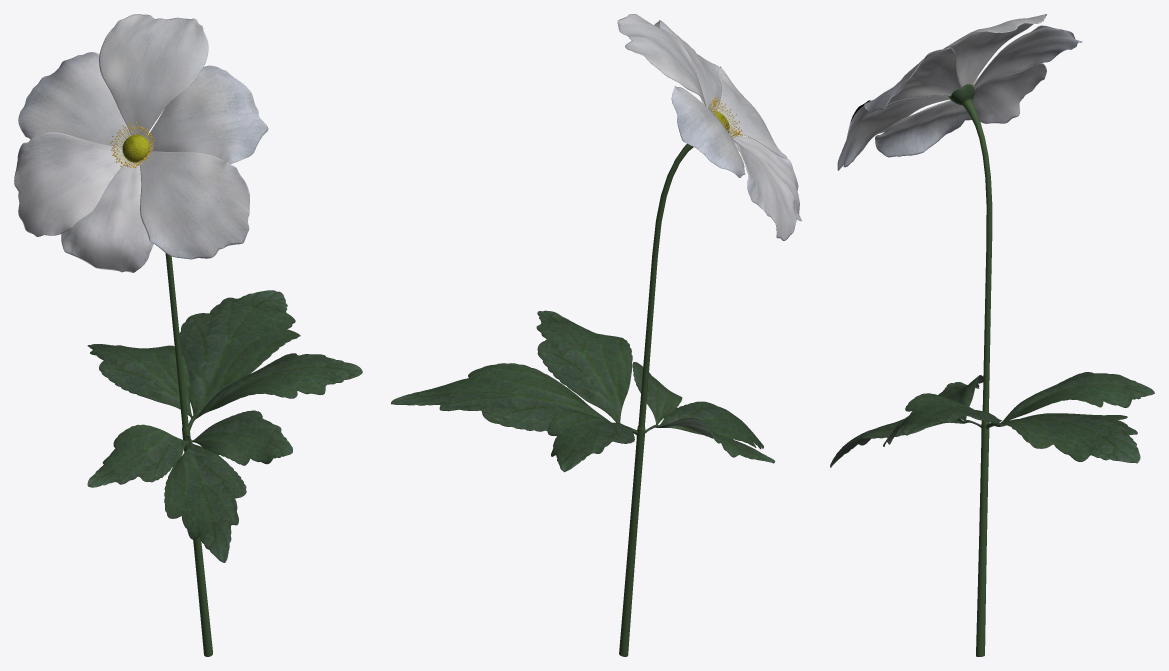
The picture shows the model from 3 angles, left to right: view 1: azimuth 30°, elevation 25°; view 2: azimuth 150°, elevation 25°; view 3: azimuth 270°, elevation 25°; orthographic projection. The views are drawn at different scales.
Visible parts, largest first — view 1: 12973_anemone_flower_v1_l2; view 2: 12973_anemone_flower_v1_l2; view 3: 12973_anemone_flower_v1_l2.
Boxes of the visible parts, box(x1,y1,x2,y2) form: 12973_anemone_flower_v1_l2: box(14, 14, 362, 656); 12973_anemone_flower_v1_l2: box(391, 14, 801, 656); 12973_anemone_flower_v1_l2: box(830, 14, 1154, 656).
Bounding box in the file's own units: 15.93 × 29.99 × 14.18.
1 material, 1 textured.
